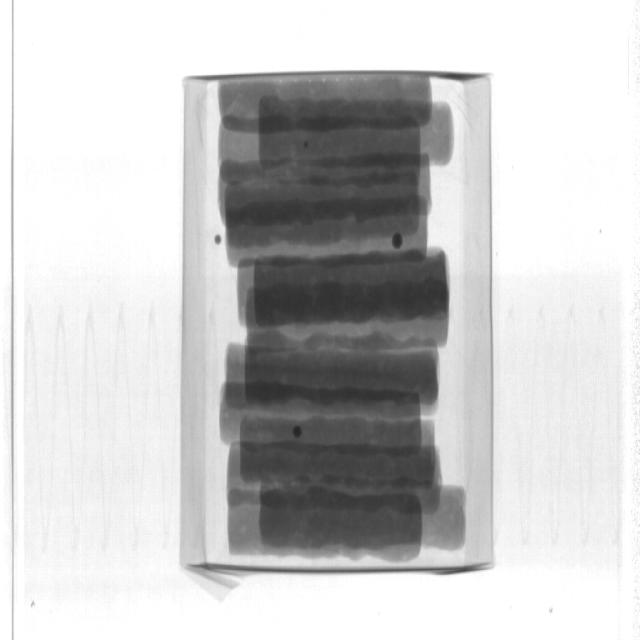ym: (393, 234, 405, 250), (294, 426, 304, 439), (215, 236, 224, 246), (304, 140, 310, 150)
